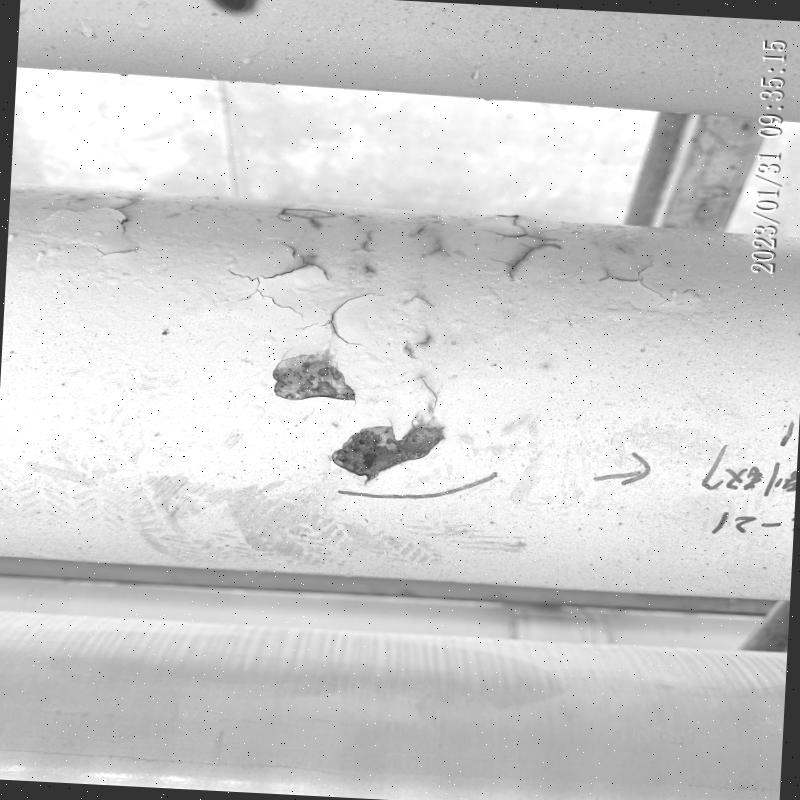corrosion: (342, 416, 436, 479)
